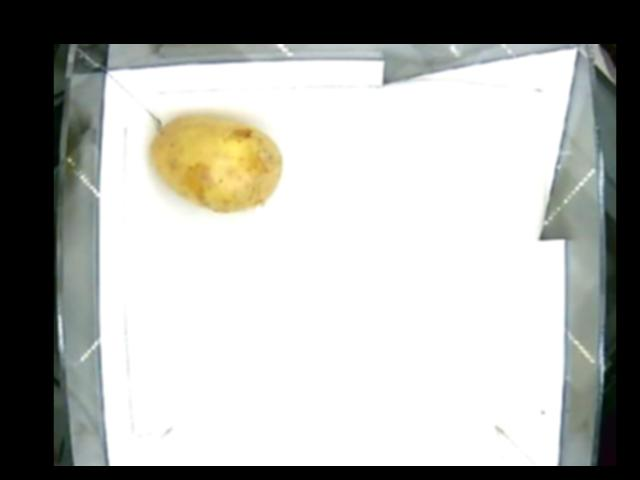Potato: (149, 116, 283, 211)
